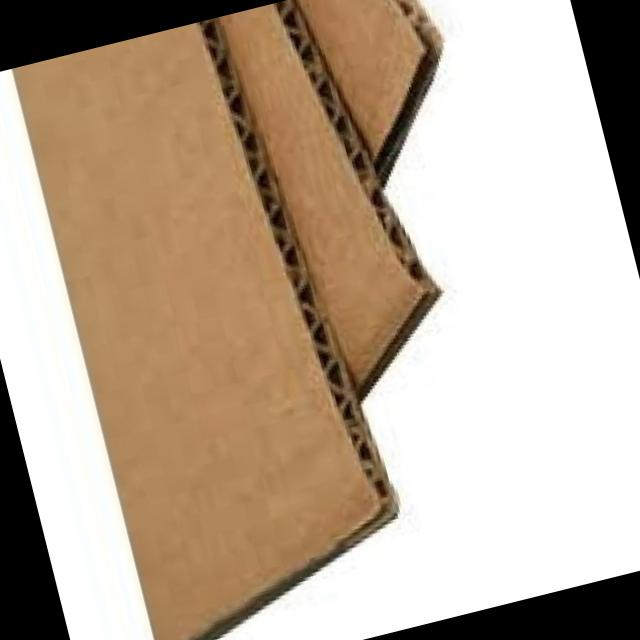cardboard paper: (13, 0, 437, 640)
